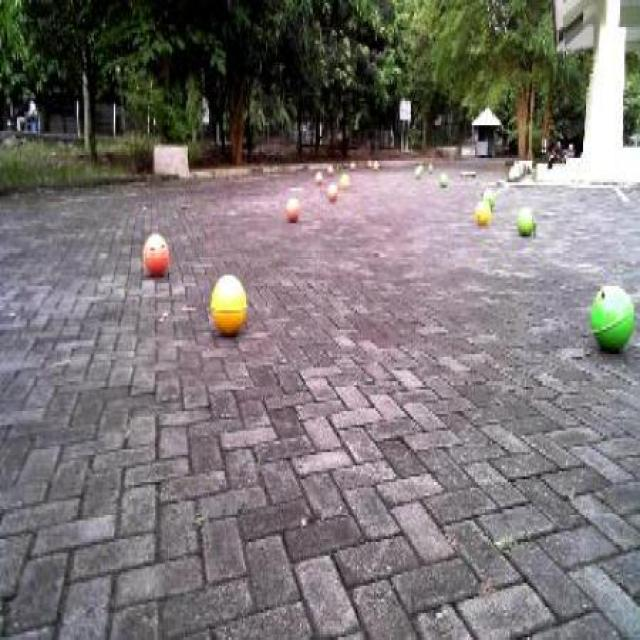buoy: (583, 274, 639, 360), (205, 260, 252, 342), (134, 212, 178, 286), (512, 200, 540, 250), (281, 185, 304, 232), (468, 193, 495, 229), (308, 159, 326, 192), (324, 177, 341, 207), (434, 165, 452, 192), (337, 167, 353, 190), (411, 158, 422, 182)
